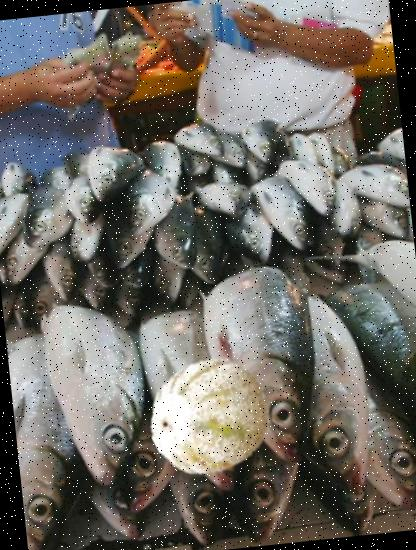Cantaloupe: (142, 350, 275, 484)
